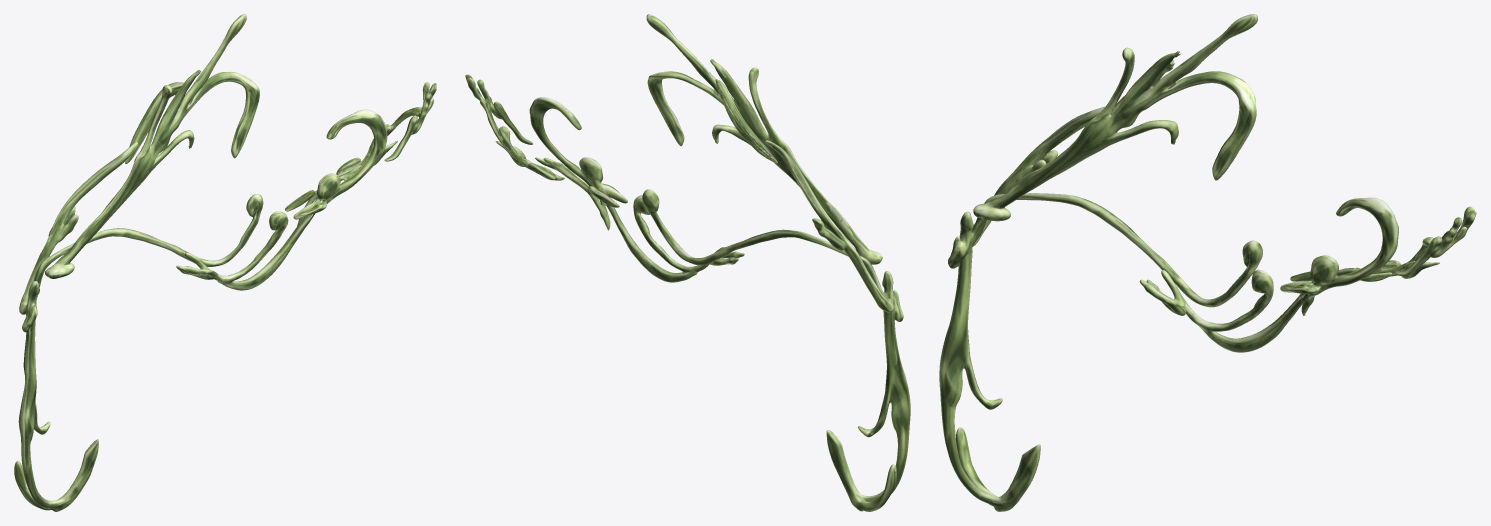
File: offer.glb
The picture shows the model from 3 angles, left to right: view 1: azimuth 30°, elevation 25°; view 2: azimuth 150°, elevation 25°; view 3: azimuth 330°, elevation 25°; orthographic projection. The views are drawn at different scales.
Parts seen in each view (by area): view 1: tripo_node_6607584e-f64a-4694-bf9e-e9bef4dc1d35; view 2: tripo_node_6607584e-f64a-4694-bf9e-e9bef4dc1d35; view 3: tripo_node_6607584e-f64a-4694-bf9e-e9bef4dc1d35.
Boxes of the visible parts, <box> form: tripo_node_6607584e-f64a-4694-bf9e-e9bef4dc1d35: <box>14,14,436,511</box>; tripo_node_6607584e-f64a-4694-bf9e-e9bef4dc1d35: <box>465,14,910,511</box>; tripo_node_6607584e-f64a-4694-bf9e-e9bef4dc1d35: <box>939,14,1476,511</box>.
Bounding box in the file's own units: 0.9817 × 0.9762 × 0.0984.
1 material, 1 textured.
